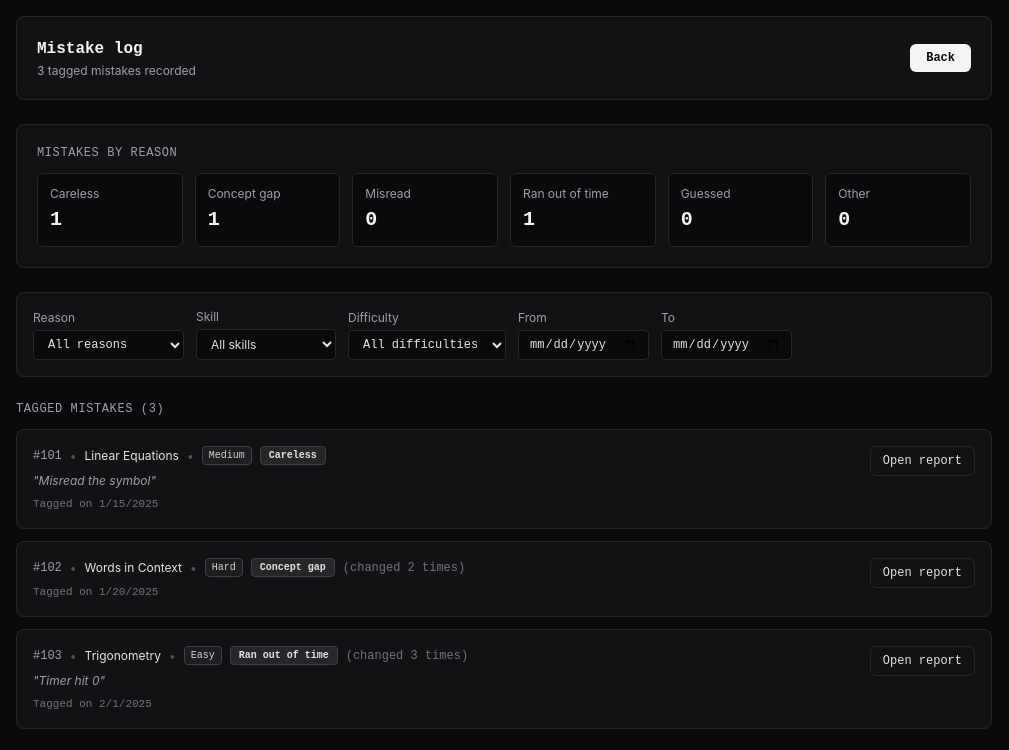
MistakeLogScreen › shows RulesNoteBox when a skill filter is selected and hides it when all skills are selected
The image size is (1009, 750).
Expected: the text "Write the rule in your own words." is not shown
Select "Words in Context" in the dropdown named "Filter by skill" at (266, 344), box [196,329,336,360]
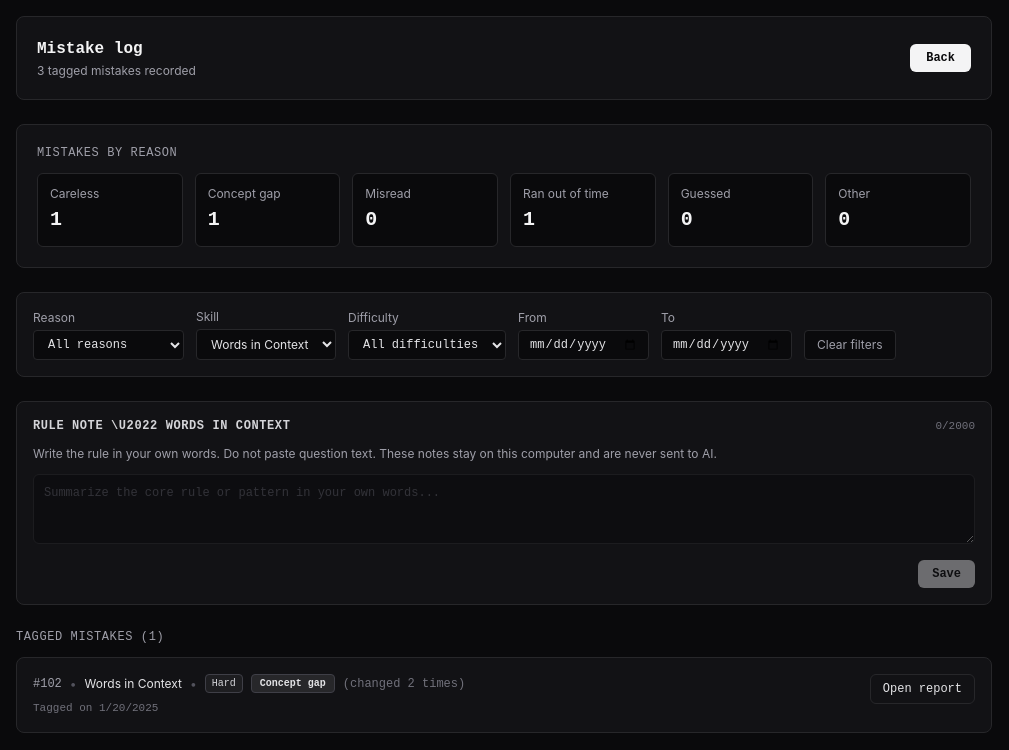
Expected: the text "Words in Context" is shown, [166,419,290,433]
Expected: the text "Write the rule in your own words. Do not paste question text. These notes stay on this computer and are never sent to AI." is shown, [33,446,717,461]
Select "All skills" in the dropdown named "Filter by skill" at (266, 344), box [196,329,336,360]
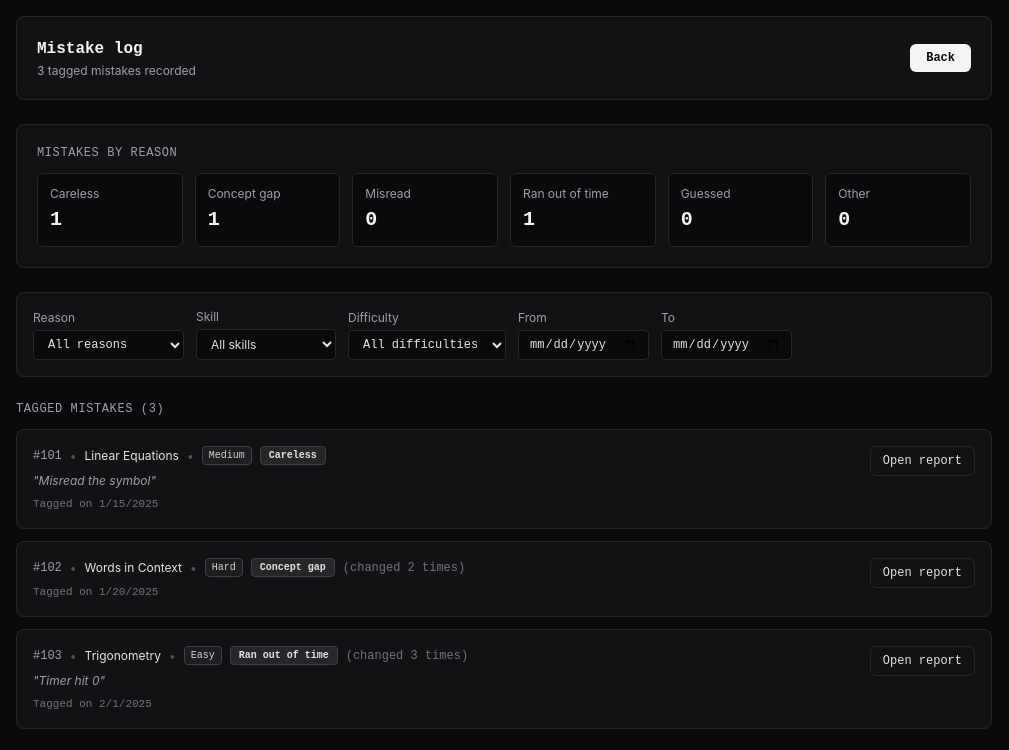
Expected: the text "Write the rule in your own words." is gone
